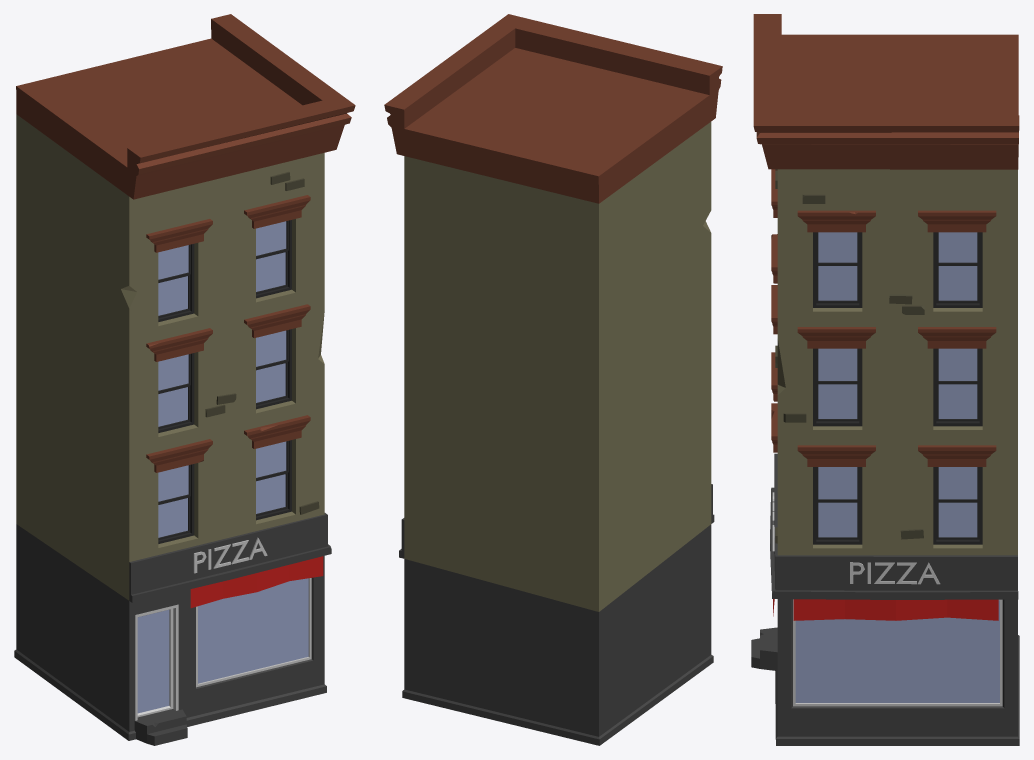
Rendered from pizzaCorner.obj.
3 views of the same model, side by side, from view 1: azimuth 30°, elevation 25°; view 2: azimuth 150°, elevation 25°; view 3: azimuth 270°, elevation 25° (orthographic). The views are drawn at different scales.
Parts seen in each view (by area): view 1: PizzaCorner; view 2: PizzaCorner; view 3: PizzaCorner.
Part boxes in pixels (box(x1,y1,x2,y2)): PizzaCorner: box(14, 14, 355, 745); PizzaCorner: box(384, 14, 722, 745); PizzaCorner: box(751, 14, 1019, 745).
Size of the model in its own units: 1.33 by 3.47 by 1.34.
